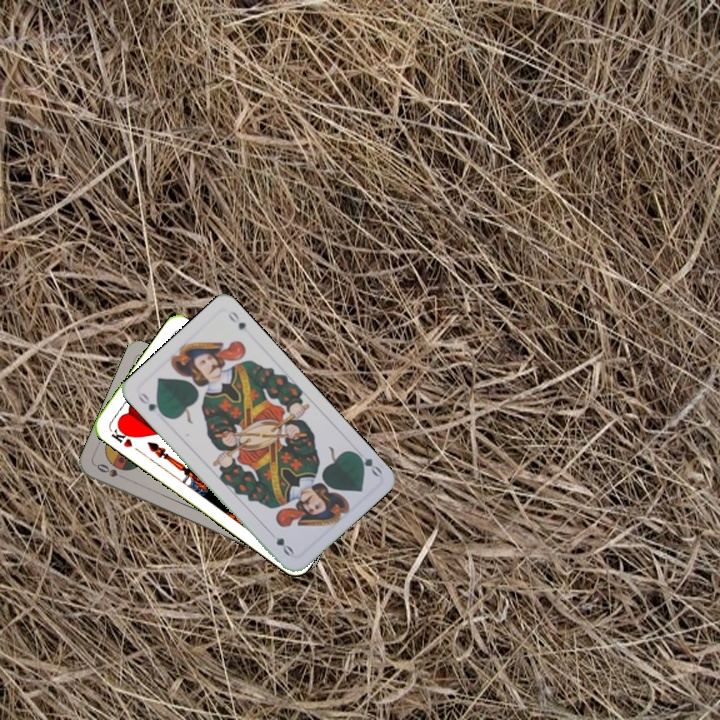GO: (349, 448, 385, 479), (134, 389, 167, 419)
HK: (106, 422, 136, 450)
SO: (92, 459, 131, 483)
